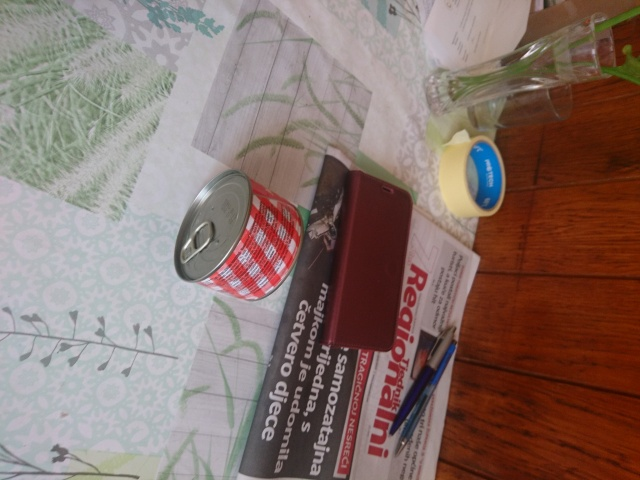Podravka Luncheon Meat 150g: (170, 166, 307, 305)
